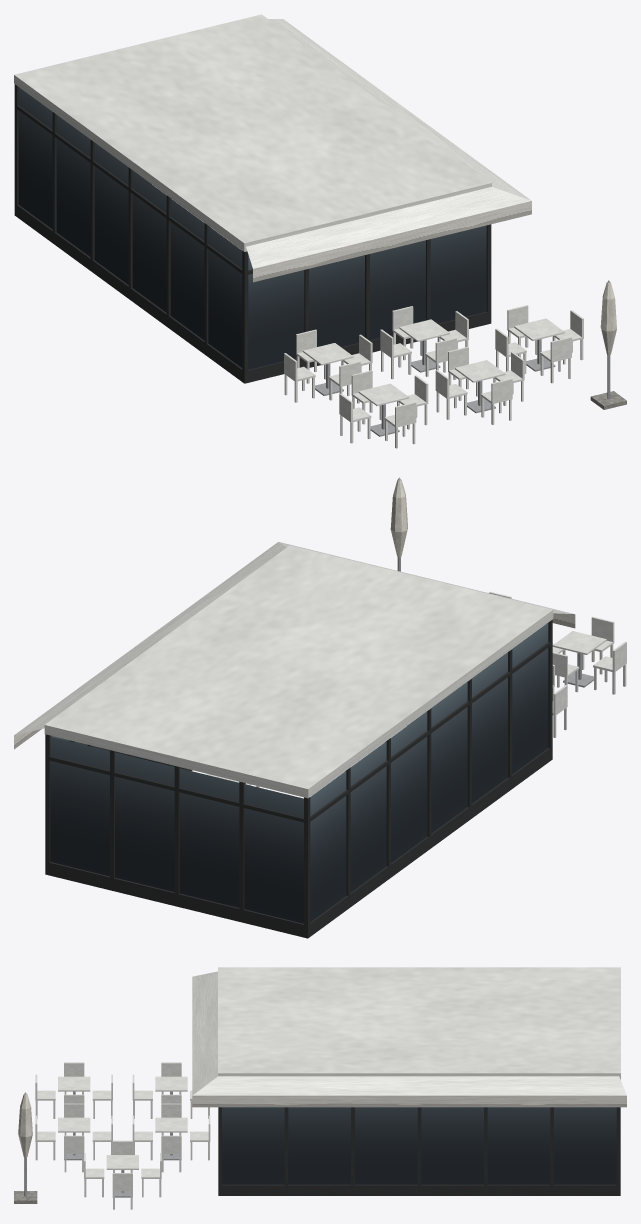
The model's file is SM_Molo_DehorsVetrato.fbx.
3 views of the same model, one above another, from view 1: azimuth 30°, elevation 25°; view 2: azimuth 150°, elevation 25°; view 3: azimuth 270°, elevation 25° (orthographic). The views are drawn at different scales.
Parts seen in each view (by area): view 1: SM_Molo_DehorsVetrato; view 2: SM_Molo_DehorsVetrato; view 3: SM_Molo_DehorsVetrato.
Part boxes in pixels (x1,y1,x2,y2): SM_Molo_DehorsVetrato: (14, 14, 626, 448); SM_Molo_DehorsVetrato: (14, 477, 626, 938); SM_Molo_DehorsVetrato: (14, 967, 626, 1209).
Size of what is drawn, in the model's own units: 622 by 1323 by 293.
1 material, 1 textured.
